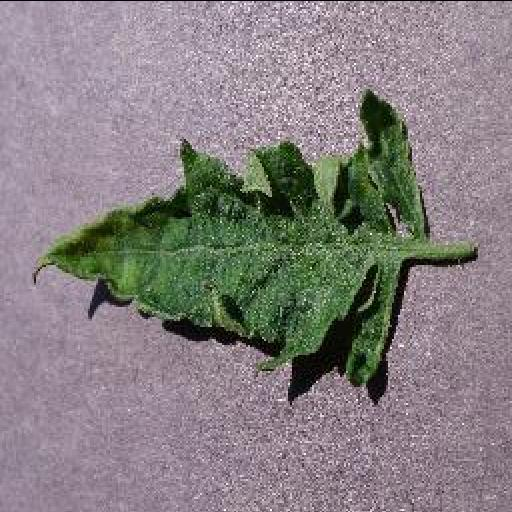Mosaic Virus: (30, 84, 430, 384)
